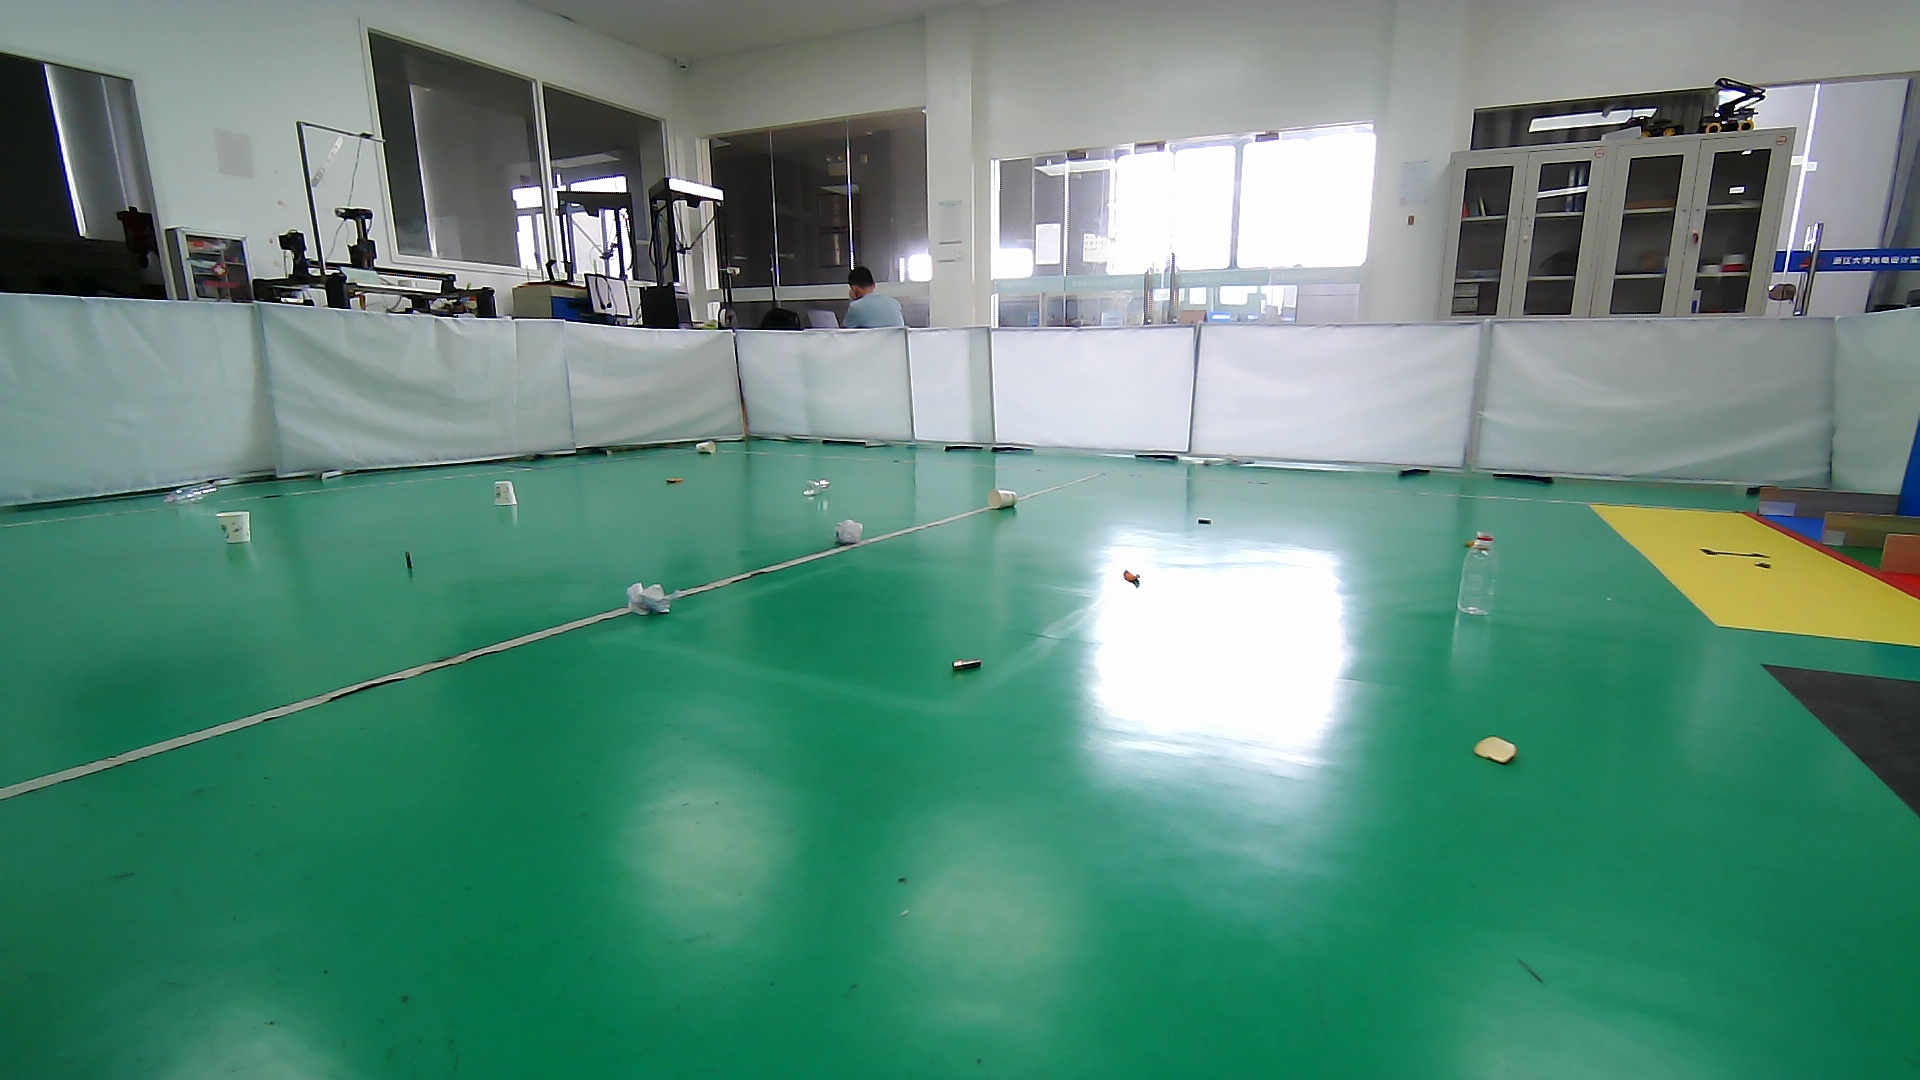battery: (945, 651, 988, 680), (396, 546, 422, 576), (1193, 513, 1217, 530)
bottle: (1453, 529, 1502, 620), (162, 480, 218, 508), (800, 477, 833, 498)
orangepeel: (1466, 727, 1524, 771), (661, 472, 690, 489)
papercup: (215, 508, 255, 546), (984, 485, 1019, 512), (489, 477, 520, 506), (695, 439, 717, 454)
spitball: (622, 578, 676, 621), (831, 520, 865, 546)
